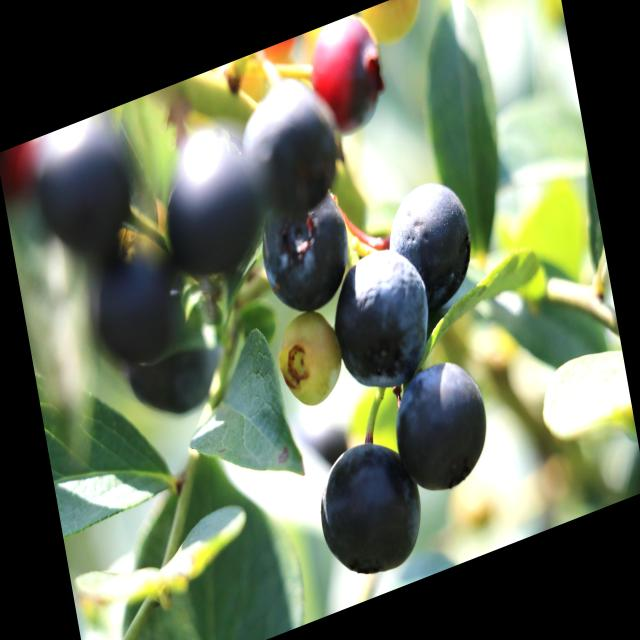blueberry: (310, 428, 430, 592), (111, 267, 228, 434), (329, 236, 439, 402), (157, 121, 269, 283), (27, 111, 142, 266), (237, 68, 340, 224), (392, 347, 495, 502), (88, 220, 192, 372), (255, 180, 358, 326), (386, 176, 482, 323)
blueberry-halfripe: (303, 9, 392, 146)
blueberry-unripe: (271, 294, 353, 420)
